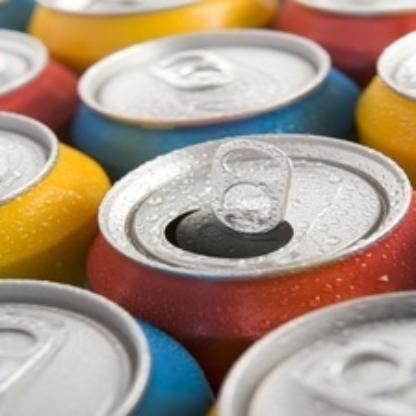Can: (82, 134, 416, 394), (71, 27, 362, 181), (0, 272, 216, 416), (206, 288, 416, 416), (0, 110, 112, 290), (0, 24, 84, 142), (356, 30, 416, 190)
